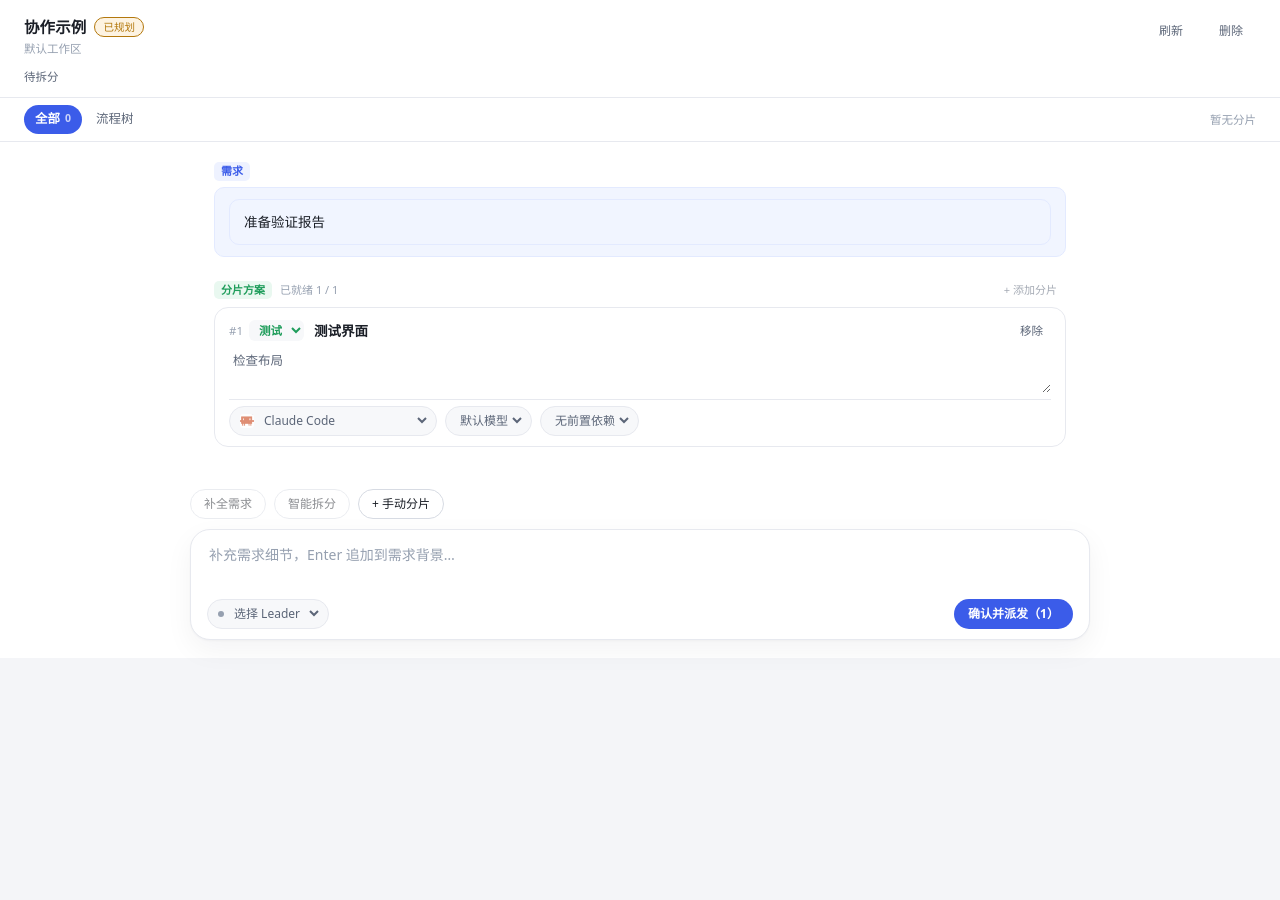
shows the requirement and draft assignments in the workflow before dispatch
The image size is (1280, 900).
Click the tab "流程树" at (115, 119), box [85,105,144,134]
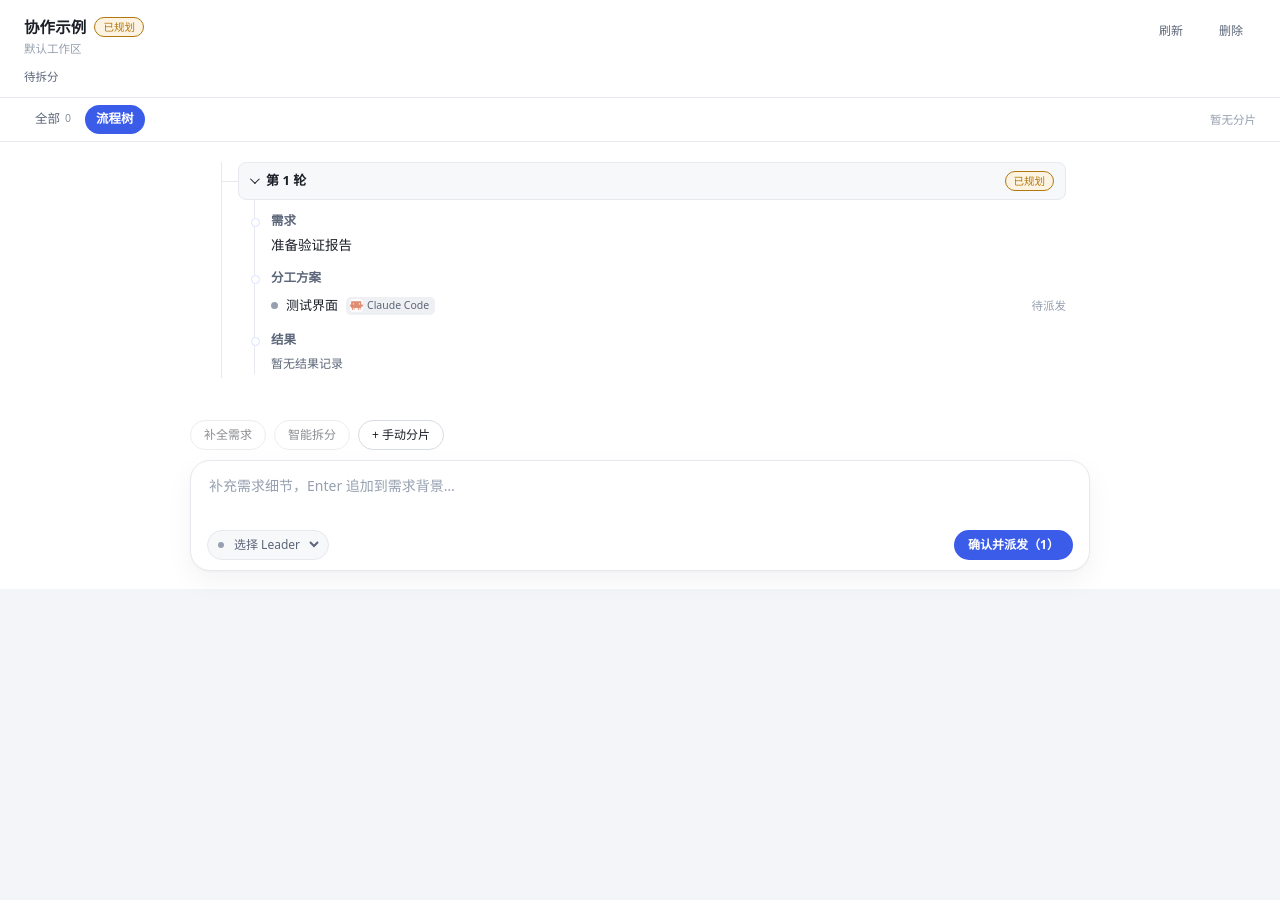
Expected: the text "准备验证报告" is shown, [271,236,352,254]
Expected: the heading "分工方案" is shown, [271,269,321,286]
Expected: the list item "测试界面" shows "待派发", [1032,298,1066,313]
